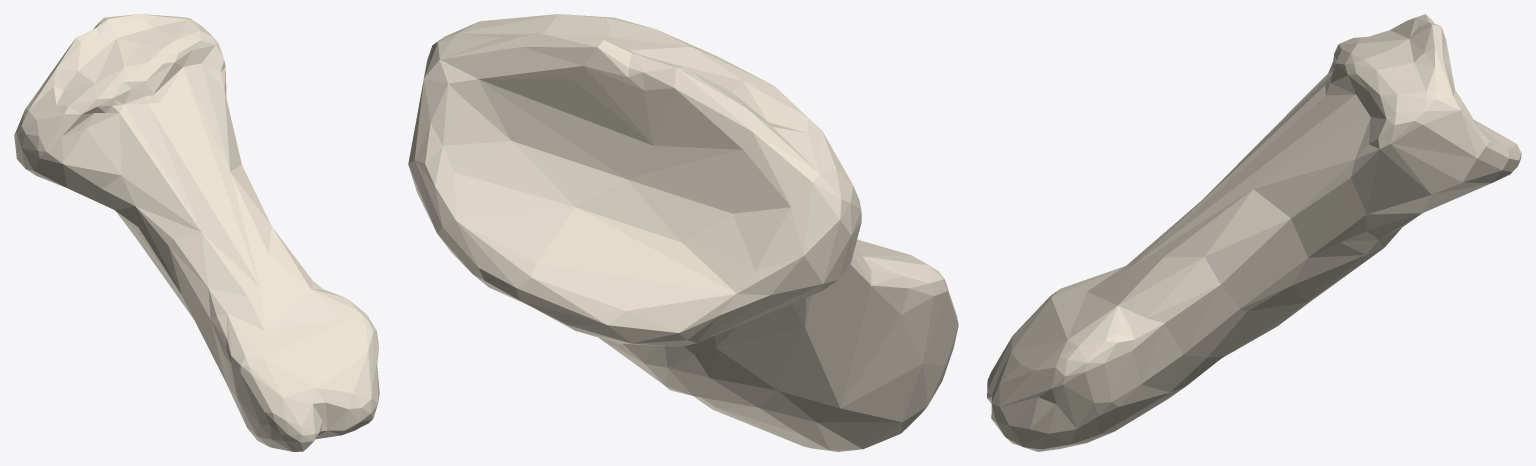
File: left_index_distal_phalanx.glb
The picture shows the model from 3 angles, left to right: view 1: azimuth 30°, elevation 25°; view 2: azimuth 150°, elevation 25°; view 3: azimuth 270°, elevation 25°; orthographic projection. The views are drawn at different scales.
Visible parts, largest first — view 1: left_index_distal_phalanx; view 2: left_index_distal_phalanx; view 3: left_index_distal_phalanx.
Part boxes in pixels (box(x1,y1,x2,y2)): left_index_distal_phalanx: box(14, 14, 379, 451); left_index_distal_phalanx: box(408, 14, 958, 451); left_index_distal_phalanx: box(987, 14, 1521, 451).
Size of the model in its own units: 0.0101 by 0.0139 by 0.0171.
